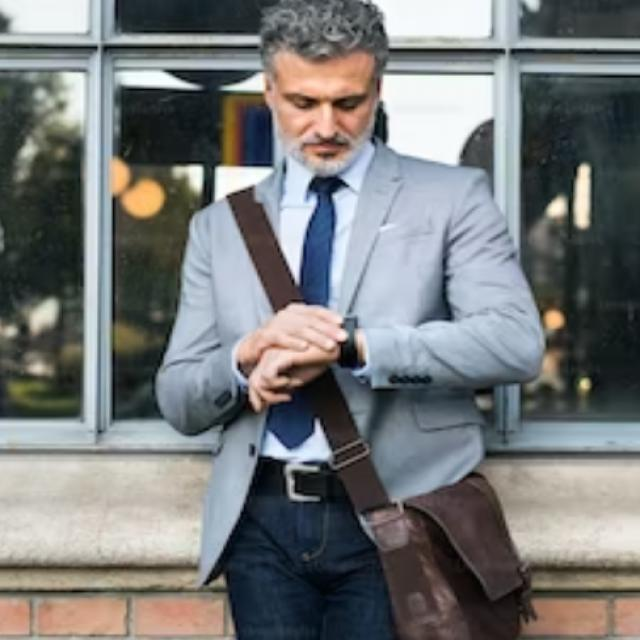Watch: (336, 307, 364, 375)
